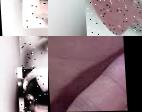ironball: (81, 0, 141, 36), (13, 68, 48, 111), (18, 36, 48, 75), (17, 0, 48, 27)
